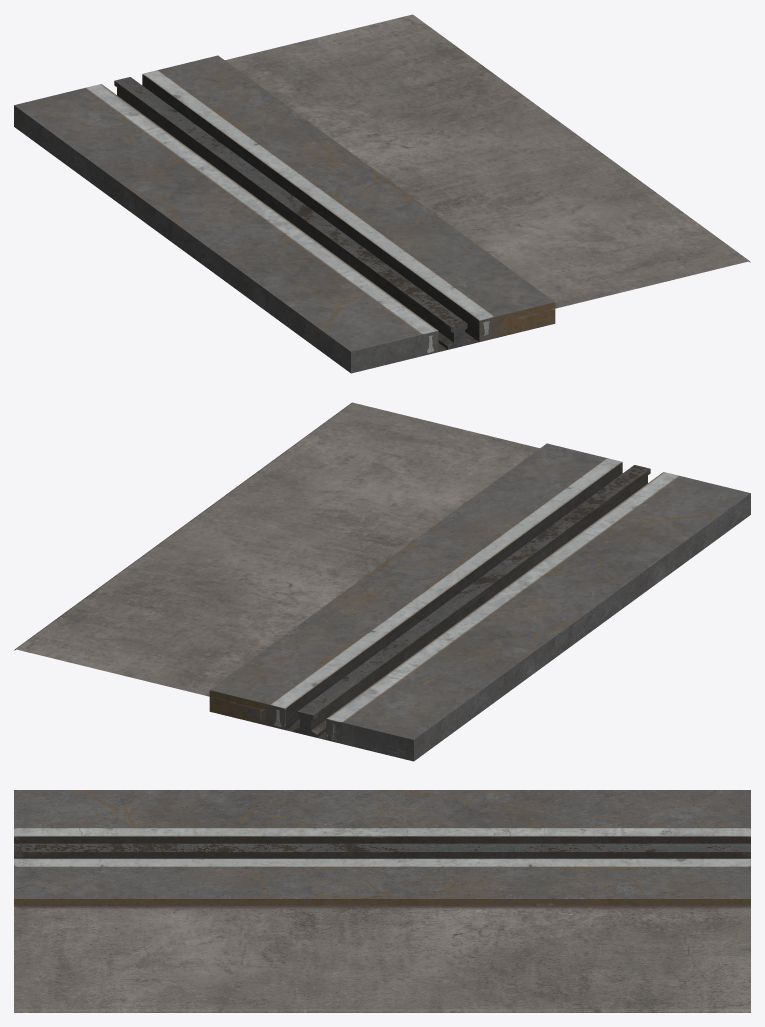
File: SM_Rails.fbx
3 views of the same model, one above another, from view 1: azimuth 30°, elevation 25°; view 2: azimuth 150°, elevation 25°; view 3: azimuth 270°, elevation 25° (orthographic). The views are drawn at different scales.
Visible parts, largest first — view 1: SM_Rails_LOD0; view 2: SM_Rails_LOD0; view 3: SM_Rails_LOD0.
Part boxes in pixels (bbox=[...]): SM_Rails_LOD0: bbox=[14, 14, 750, 373]; SM_Rails_LOD0: bbox=[14, 402, 750, 761]; SM_Rails_LOD0: bbox=[14, 790, 750, 1012].
Bounding box in the file's own units: 411 × 600 × 21.18.
1 material, 1 textured.
